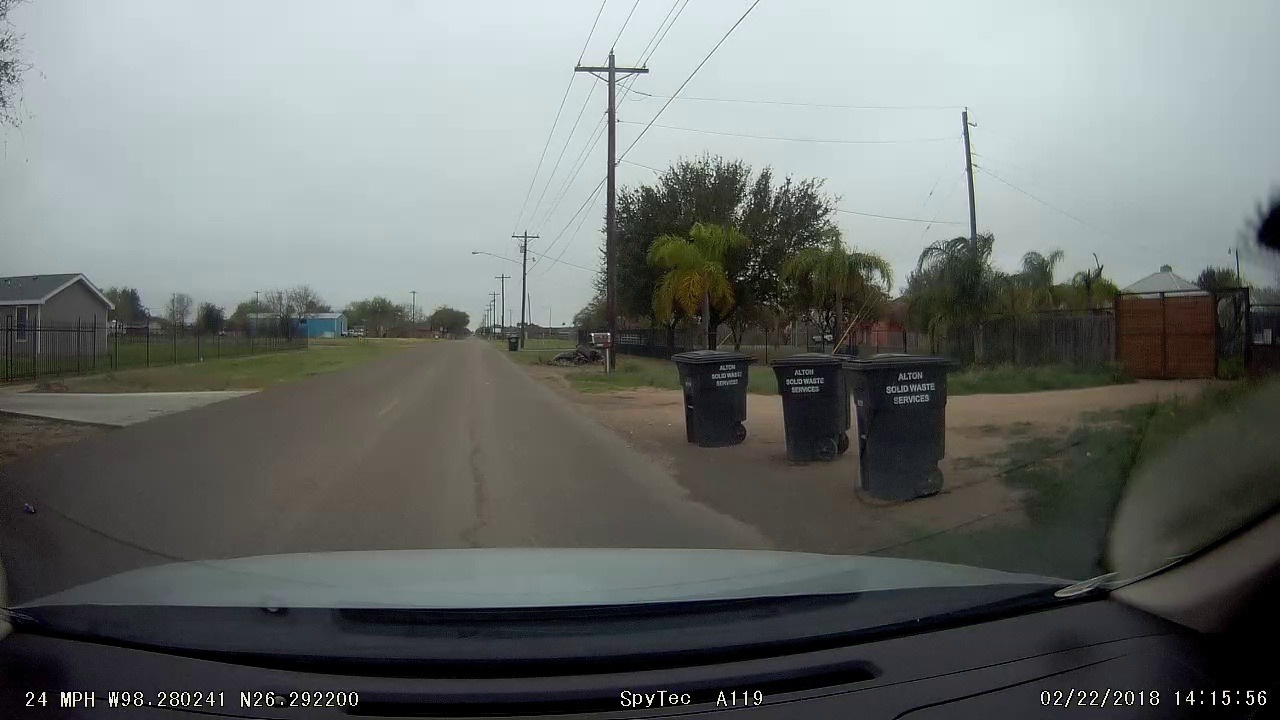crack: (458, 419, 492, 544), (374, 390, 406, 421)
